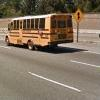buses: (5, 13, 76, 52)
